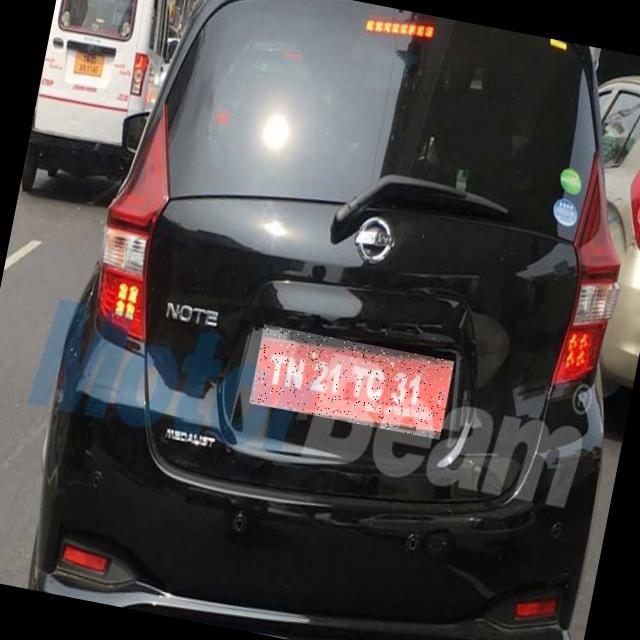Plate: (250, 325, 456, 441)
